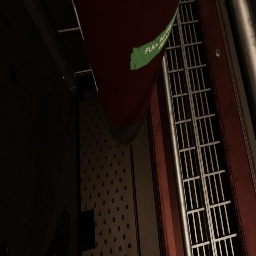NitrogenTank ,: (72, 0, 180, 146)
